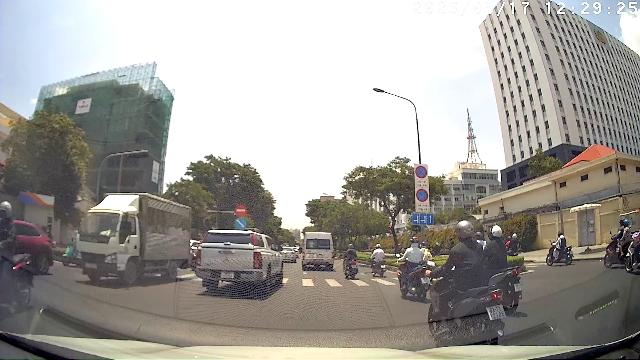130-cam-dung-va-do-xe: (415, 166, 427, 178)
131a-cam-do-xe: (416, 188, 428, 202)
